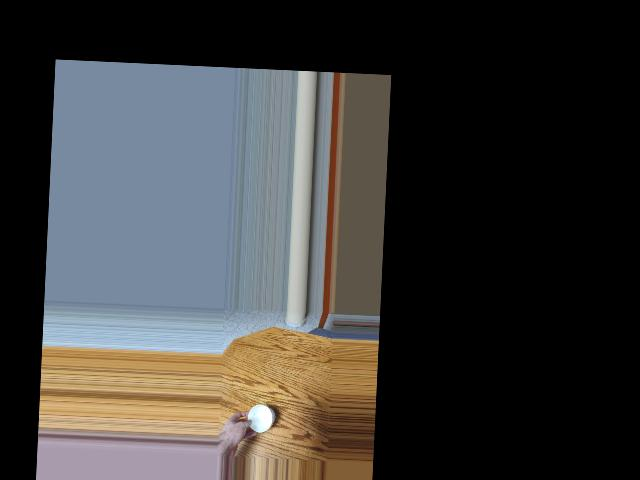cotage: (245, 399, 274, 433)
